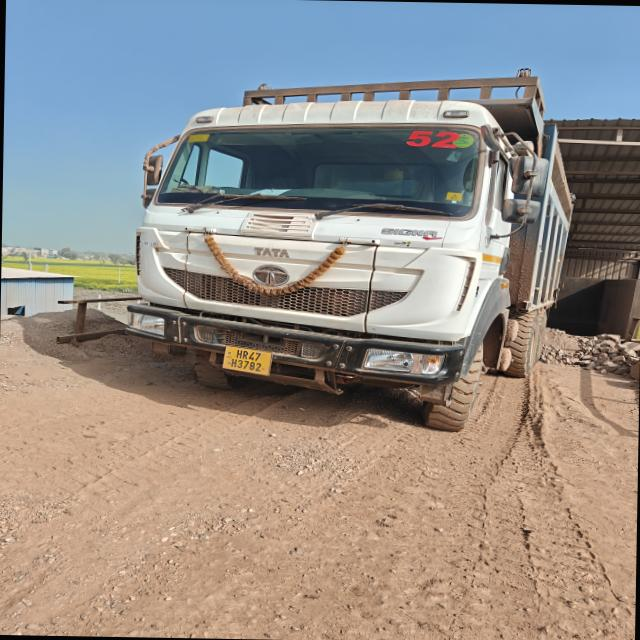license_plate: (223, 346, 272, 376)
